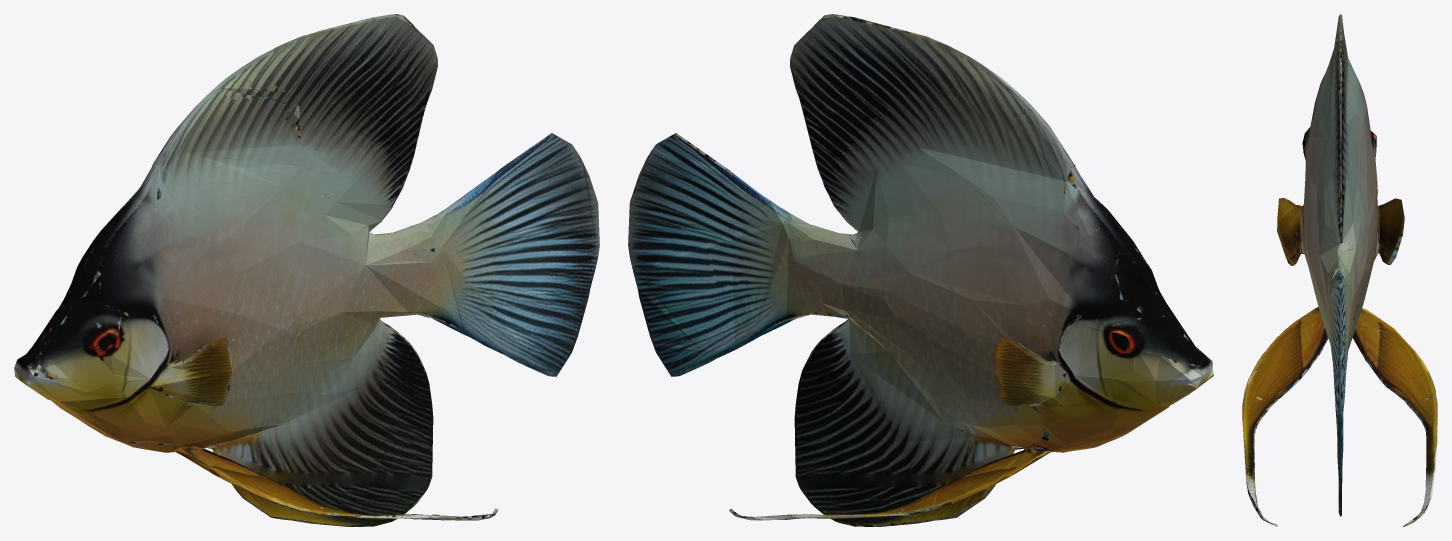
Rendered from fish_0097_smpl23_resized.glb.
3 renders of one model, left to right at view 1: azimuth 30°, elevation 25°; view 2: azimuth 150°, elevation 25°; view 3: azimuth 270°, elevation 25°, orthographic. The views are drawn at different scales.
Visible parts, largest first — view 1: world; view 2: world; view 3: world.
Part boxes in pixels (<box>): world: <box>14,14,599,526</box>; world: <box>628,14,1213,526</box>; world: <box>1242,14,1437,526</box>.
Size of the model in its own units: 1.98 by 1.66 by 0.6528.
Materials: 1 (1 with a texture image).
